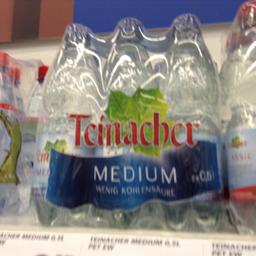water: (154, 12, 225, 226), (32, 22, 97, 223), (96, 16, 155, 226)
